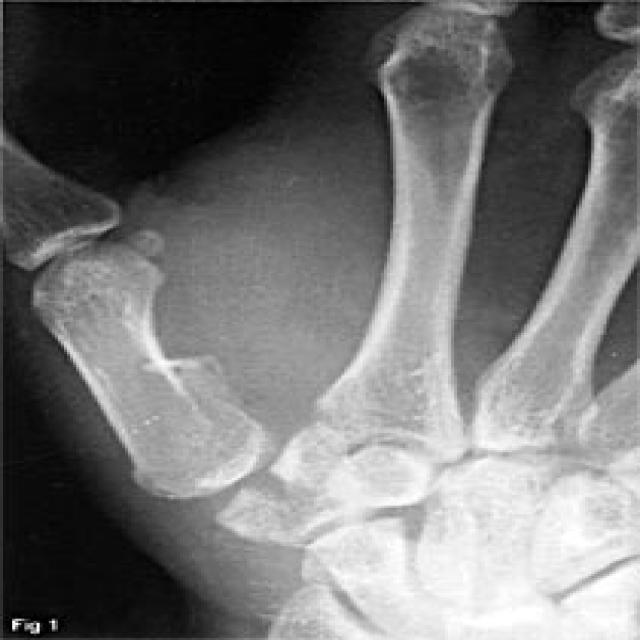comminuted: (128, 345, 350, 567)
